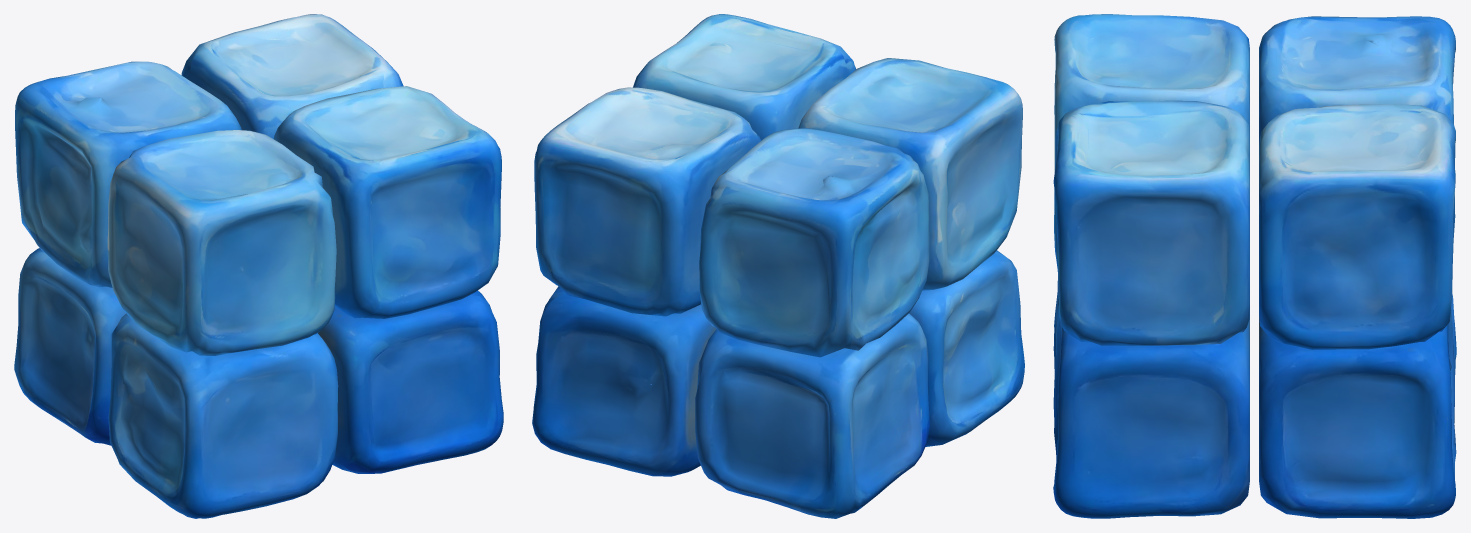
File: IceBom.obj
The picture shows the model from 3 angles, left to right: view 1: azimuth 30°, elevation 25°; view 2: azimuth 150°, elevation 25°; view 3: azimuth 270°, elevation 25°; orthographic projection. The views are drawn at different scales.
Visible parts, largest first — view 1: tripo_mesh_5de48bec; view 2: tripo_mesh_5de48bec; view 3: tripo_mesh_5de48bec.
Part boxes in pixels (box(x1,y1,x2,y2)): tripo_mesh_5de48bec: box(14, 14, 503, 518); tripo_mesh_5de48bec: box(532, 14, 1024, 518); tripo_mesh_5de48bec: box(1053, 14, 1456, 518).
Size of the model in its own units: 99.69 by 94.05 by 98.7.
Materials: 1 (1 with a texture image).
